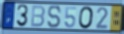2: (95, 7, 109, 30)
3: (16, 4, 29, 28)
5: (64, 7, 77, 29)
B: (30, 5, 46, 28)
O: (78, 6, 94, 30)
S: (47, 5, 62, 29)
